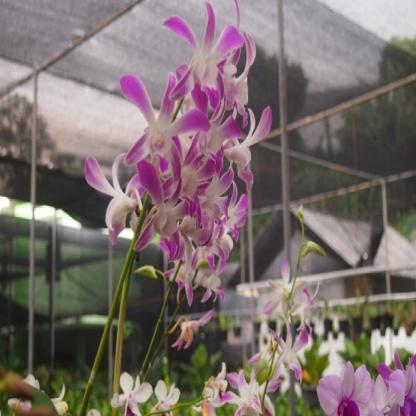ANGGREK: (82, 15, 312, 330)
